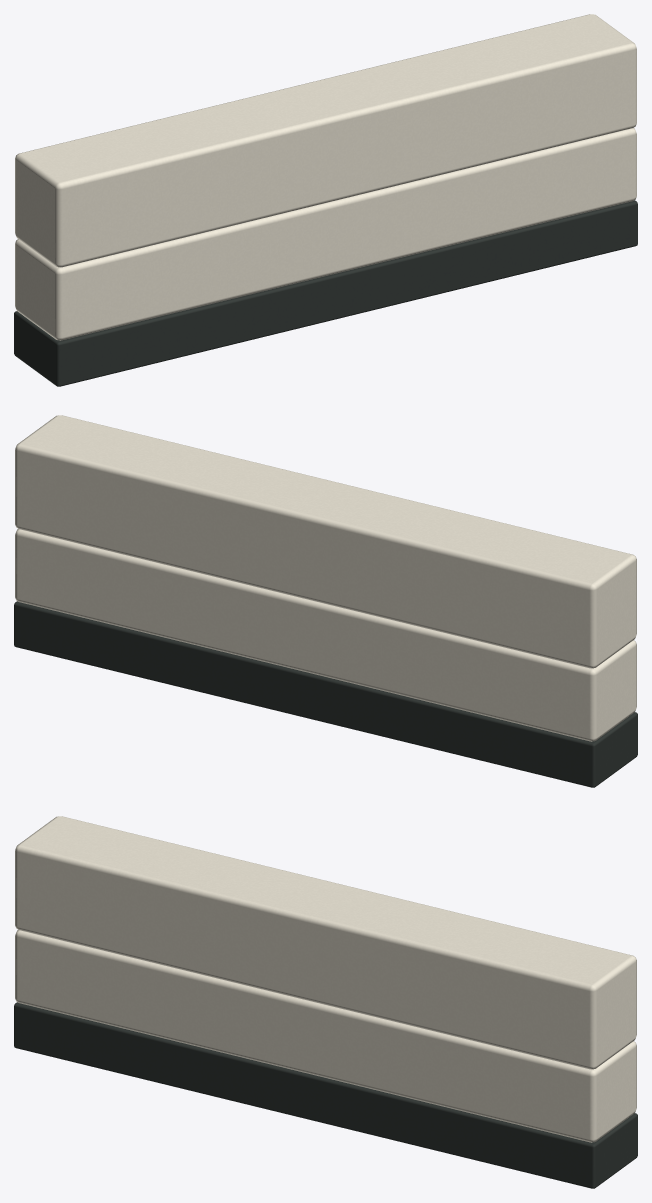
The model's file is partition.glb.
3 views of the same model, one above another, from view 1: azimuth 30°, elevation 25°; view 2: azimuth 150°, elevation 25°; view 3: azimuth 330°, elevation 25° (orthographic).
Visible parts, largest first — view 1: wall_band, wall_body, wall_plinth; view 2: wall_band, wall_body, wall_plinth; view 3: wall_band, wall_body, wall_plinth.
Part boxes in pixels (x1=…): wall_band: x1=15, y1=14, x2=636, y2=267; wall_body: x1=15, y1=128, x2=636, y2=340; wall_plinth: x1=14, y1=200, x2=637, y2=386; wall_band: x1=15, y1=415, x2=636, y2=668; wall_body: x1=15, y1=529, x2=636, y2=741; wall_plinth: x1=14, y1=601, x2=637, y2=787; wall_band: x1=15, y1=816, x2=636, y2=1069; wall_body: x1=15, y1=930, x2=636, y2=1142; wall_plinth: x1=14, y1=1002, x2=637, y2=1188.
Bounding box in the file's own units: 3 × 1 × 0.4.
2 materials, 2 textured.
